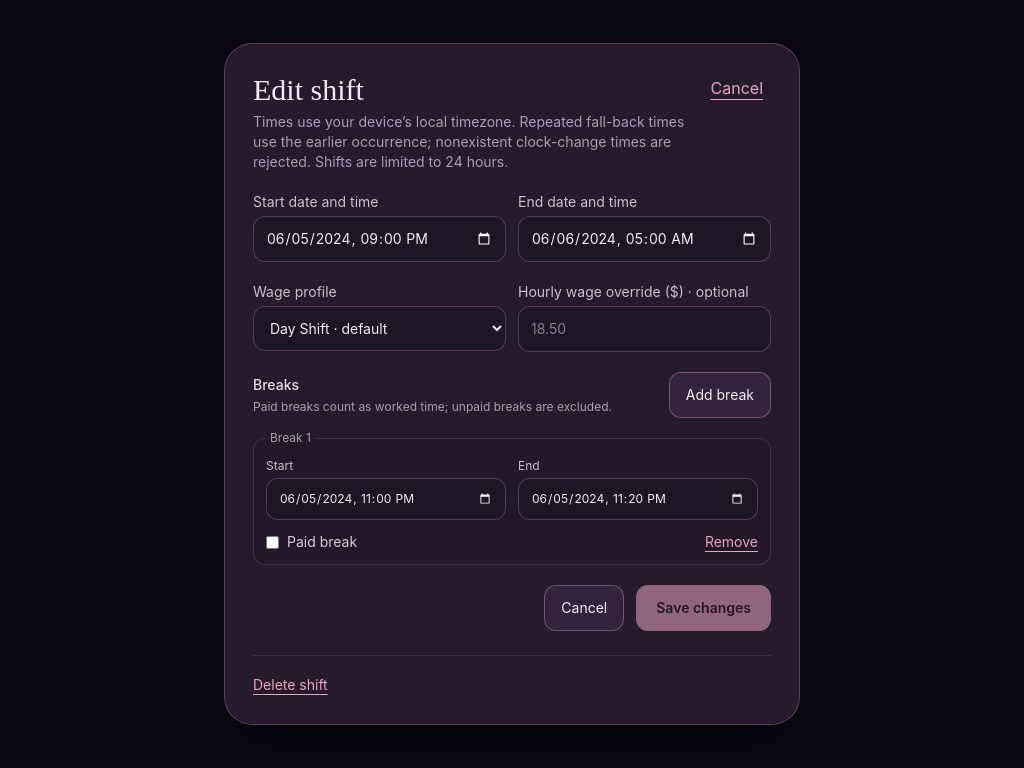
Test: manual shift editor › keeps stale edits open and reports conflict without creating a replacement shift
In the field labelled "Hourly wage override ($) · optional": coordinates (644, 329) 518,306 -> 771,352, type "21.00"
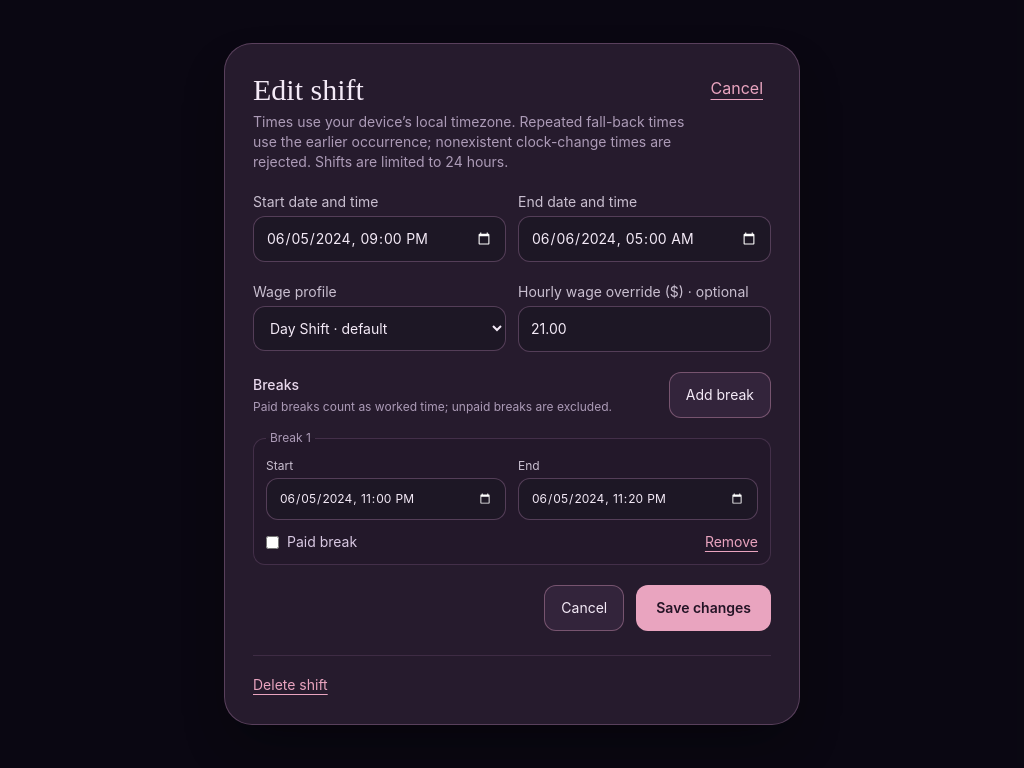
Click the button "Save changes": coordinates (704, 608) 636,585 -> 771,631
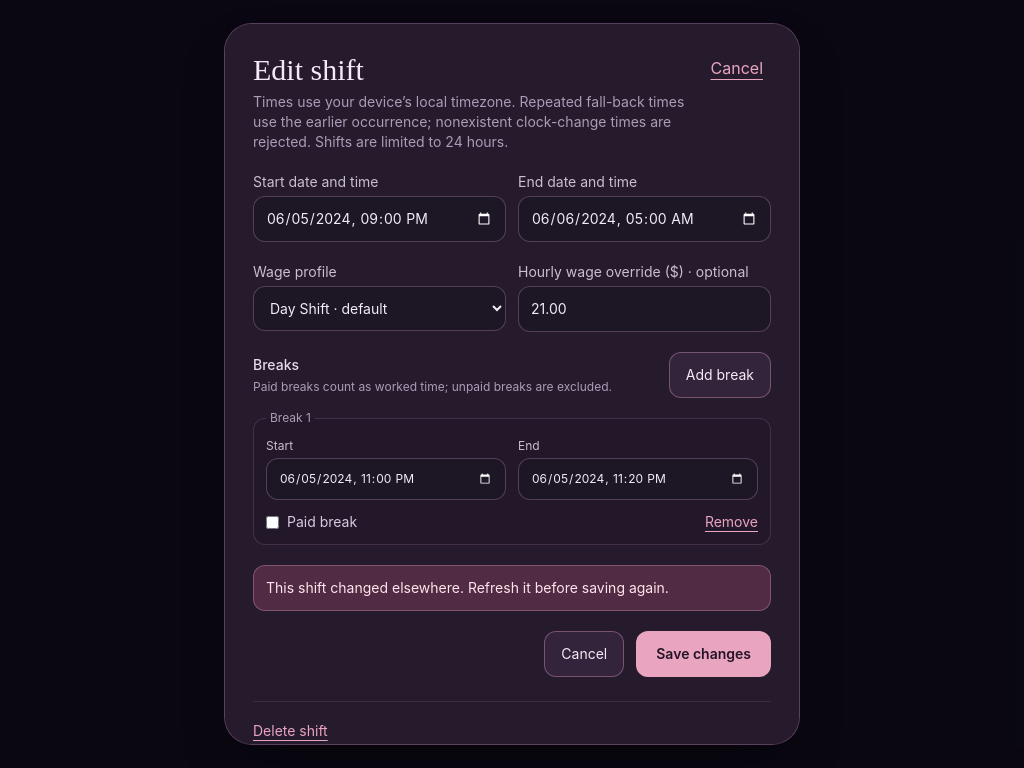
Result: the button "Save changes" is enabled at 636,631 -> 771,677
Result: the message shows "This shift changed elsewhere" at 266,579 -> 669,596
